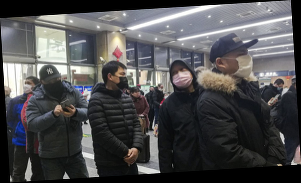with_mask: (226, 47, 254, 79), (170, 65, 193, 88), (42, 77, 63, 94), (114, 69, 129, 90), (22, 79, 34, 93), (276, 83, 284, 91), (163, 93, 170, 99), (159, 85, 164, 92)
without_mask: (133, 89, 141, 98)
